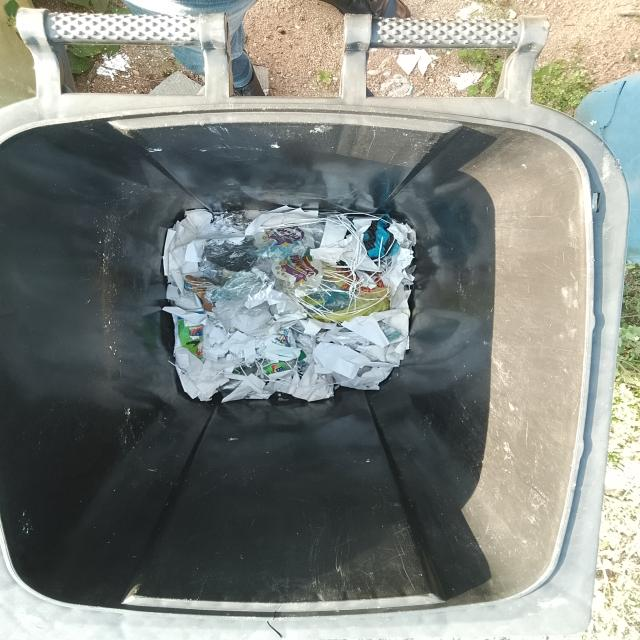half-full: (0, 100, 611, 623)
